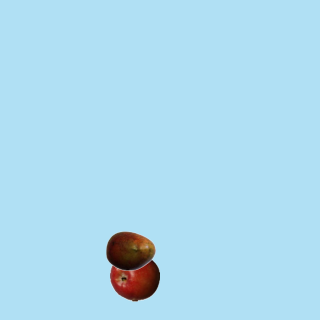Apple Braeburn: (109, 251, 159, 301)
Mango Red: (105, 225, 155, 275)
